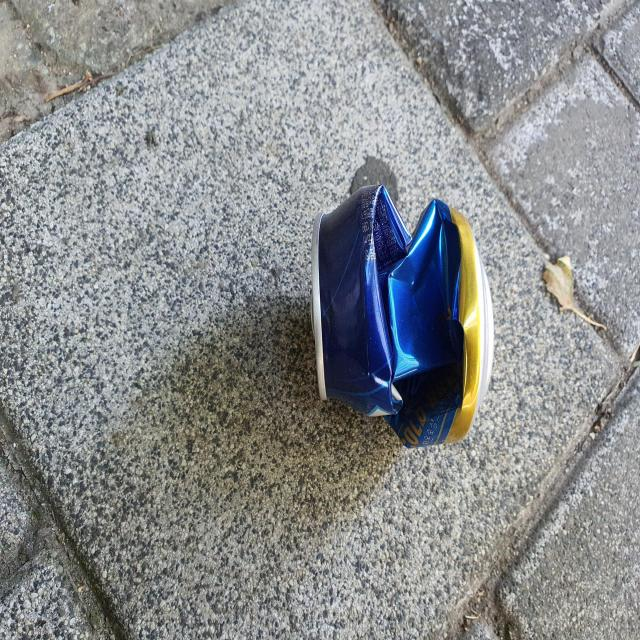can: (311, 185, 494, 448)
